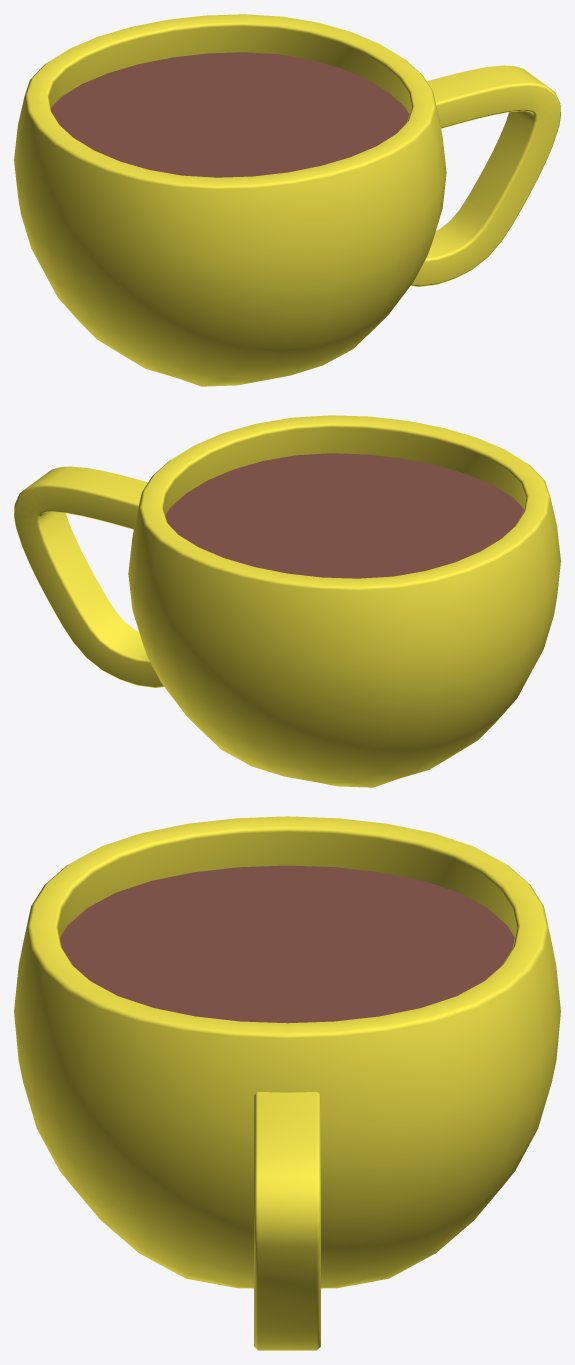
Rendered from Town_16_Mug_2.glb.
3 views of the same model, one above another, from view 1: azimuth 30°, elevation 25°; view 2: azimuth 150°, elevation 25°; view 3: azimuth 270°, elevation 25° (orthographic). The views are drawn at different scales.
Parts seen in each view (by area): view 1: Town_16_Mug_2; view 2: Town_16_Mug_2; view 3: Town_16_Mug_2.
Part boxes in pixels (box(x1,y1,x2,y2)): Town_16_Mug_2: box(14, 14, 560, 386); Town_16_Mug_2: box(14, 415, 560, 787); Town_16_Mug_2: box(14, 816, 560, 1350).
Size of the model in its own units: 0.3276 by 0.1578 by 0.2394.
Materials: 1 (1 with a texture image).
